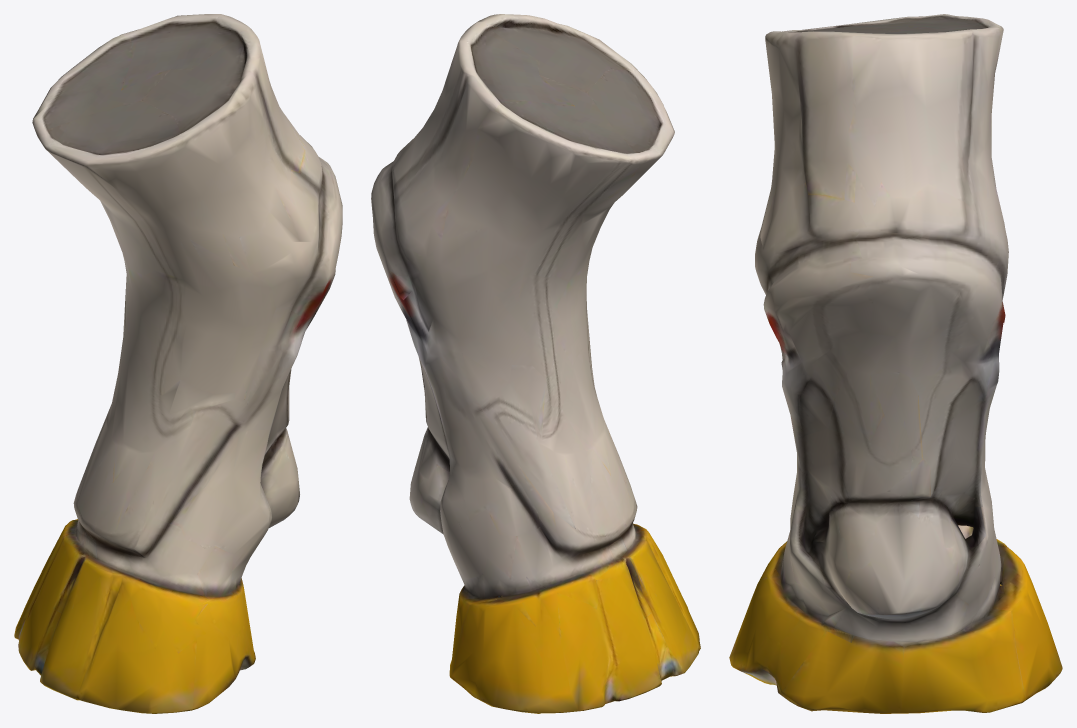
The model's file is leg_rr_lo.glb.
3 views of the same model, side by side, from view 1: azimuth 30°, elevation 25°; view 2: azimuth 150°, elevation 25°; view 3: azimuth 270°, elevation 25° (orthographic). The views are drawn at different scales.
Bounding box in the file's own units: 1.02 × 2 × 0.8751.
Materials: 1 (1 with a texture image).
